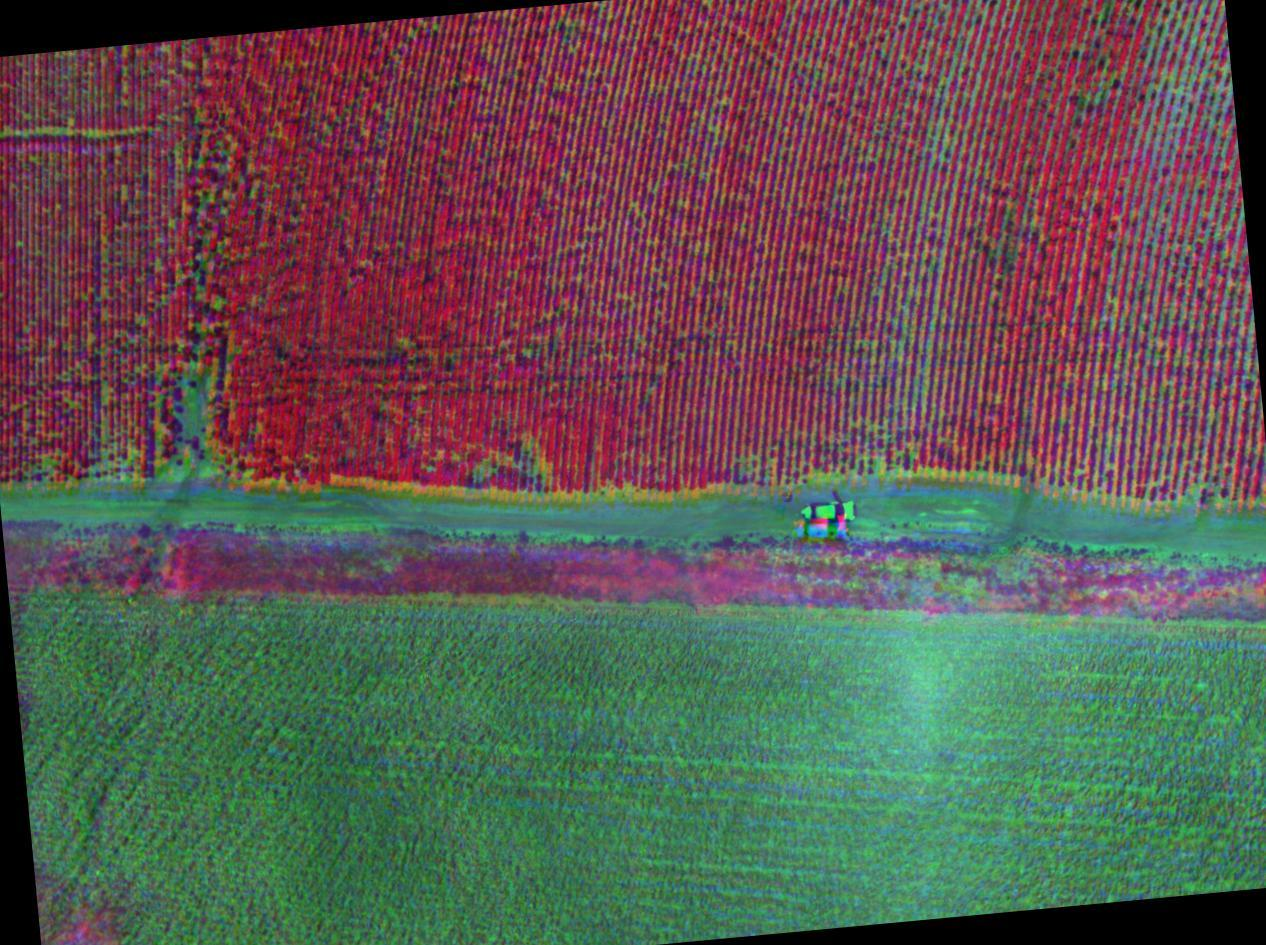dc: (2, 112, 160, 152), (161, 373, 221, 472), (906, 290, 970, 367), (476, 433, 556, 493), (1148, 65, 1208, 136), (1157, 4, 1220, 60)
